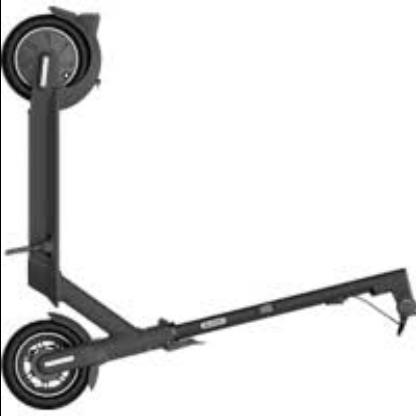bike: (1, 2, 415, 412), (3, 265, 416, 412)
car: (1, 3, 415, 413)
